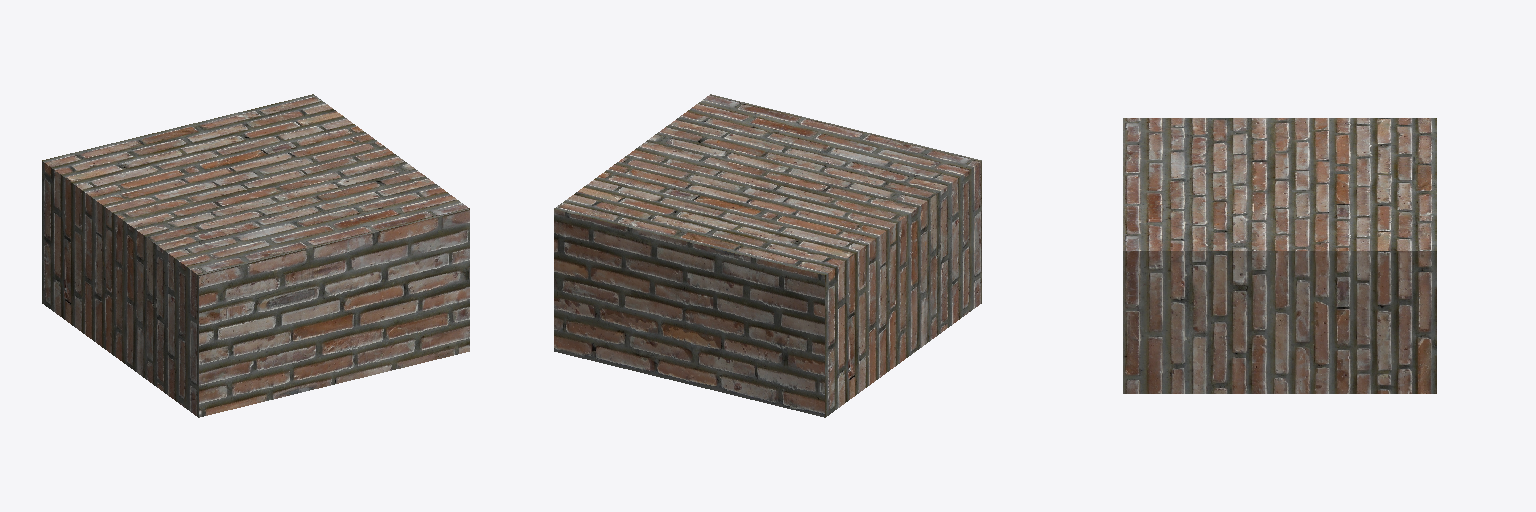
3 renders of one model, left to right at view 1: azimuth 30°, elevation 25°; view 2: azimuth 150°, elevation 25°; view 3: azimuth 270°, elevation 25°, orthographic.
Visible parts, largest first — view 1: brick; view 2: brick; view 3: brick.
Part boxes in pixels (x1,y1,x2,y2): brick: (42, 94, 469, 417); brick: (554, 94, 981, 417); brick: (1123, 118, 1436, 393).
Size of the model in its own units: 2 by 1 by 2.
Materials: 1 (1 with a texture image).